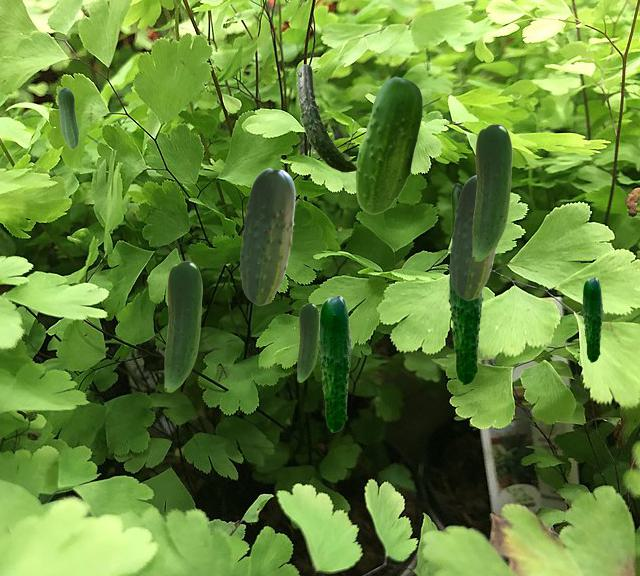cucumber: (355, 77, 421, 213), (239, 168, 294, 304), (296, 64, 356, 171), (449, 175, 498, 299), (472, 124, 511, 260), (164, 261, 201, 391), (318, 295, 351, 431), (448, 270, 482, 384), (582, 277, 602, 361), (297, 303, 318, 381), (57, 87, 78, 148), (451, 183, 462, 234)
